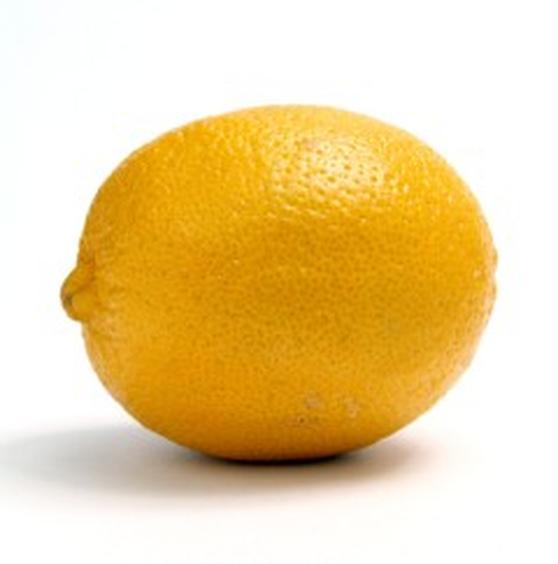lemon: (54, 97, 511, 461)
